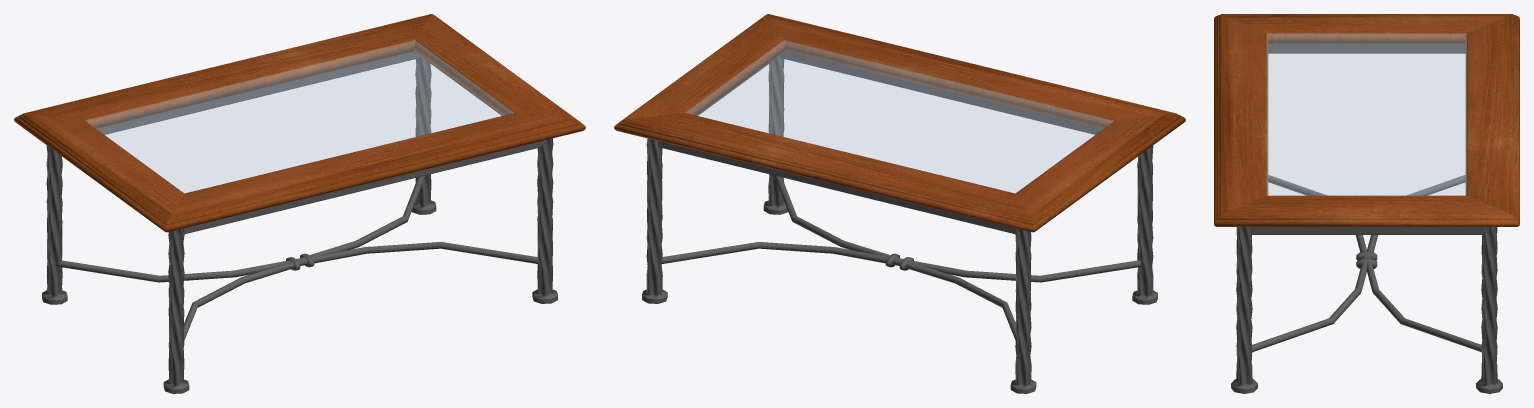
File: sh_scopia_table_wood_and_iron.glb
3 views of the same model, side by side, from view 1: azimuth 30°, elevation 25°; view 2: azimuth 150°, elevation 25°; view 3: azimuth 270°, elevation 25° (orthographic).
Bounding box in the file's own units: 1.21 × 0.503 × 0.759.
Materials: 3 (1 with a texture image).
